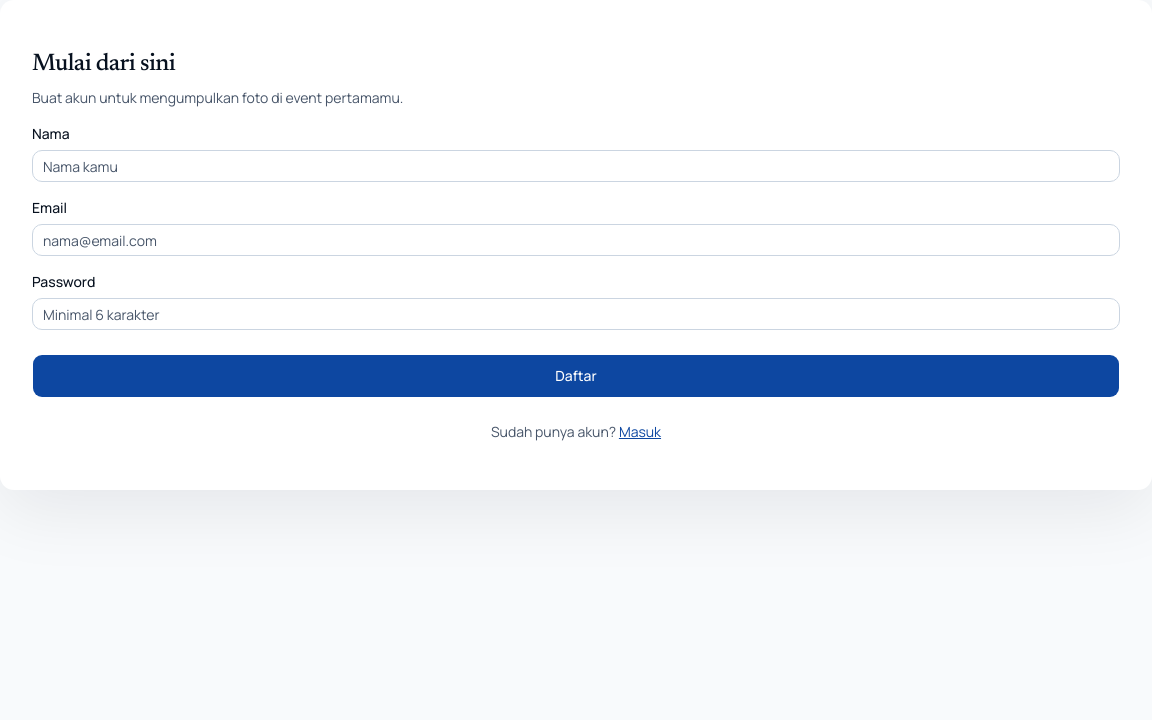
Test: RegisterForm › shows an error message when registration fails
Type "Sari" into the field labelled "Nama" at (576, 166), box [32,150,1120,182]
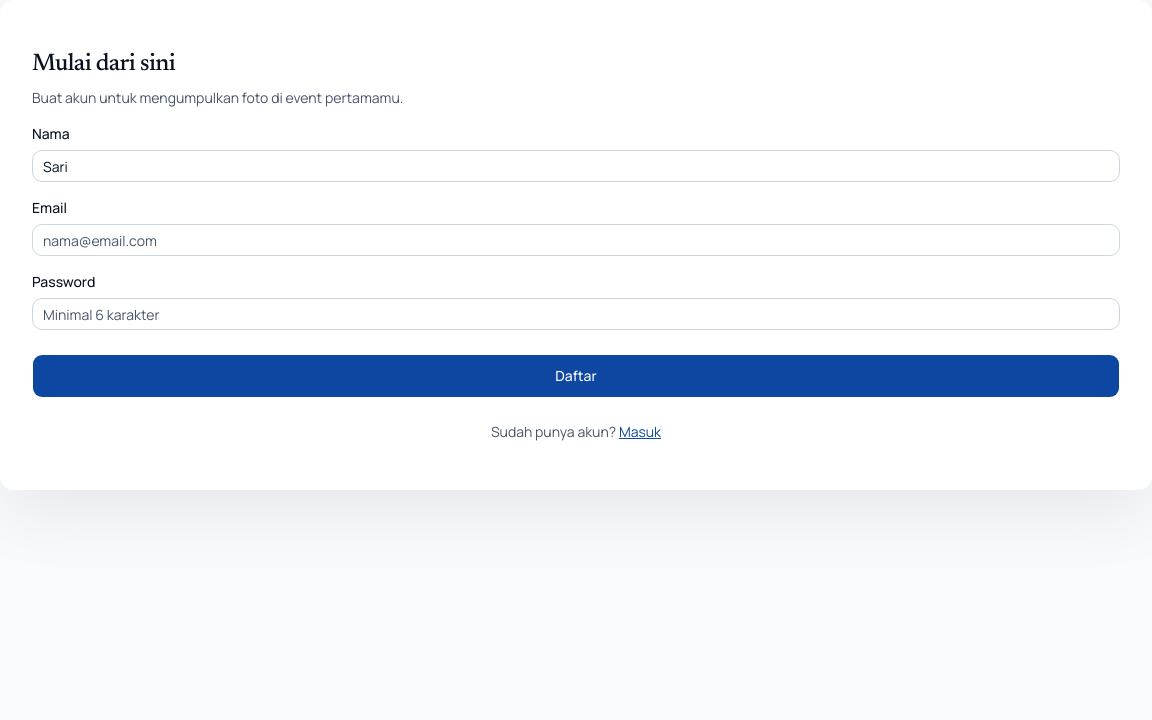
Type "sari@example.com" into the field labelled "Email" at (576, 240), box [32,224,1120,256]
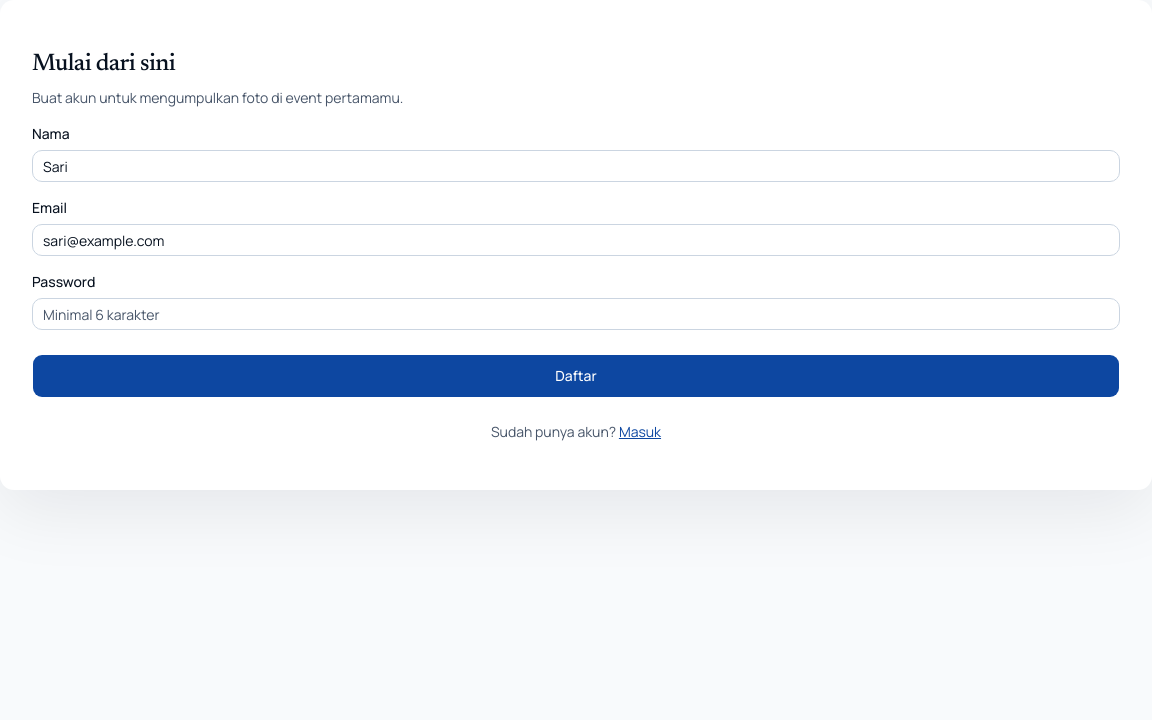
Type "secret123" into the password field labelled "Password" at (576, 314), box [32,298,1120,330]
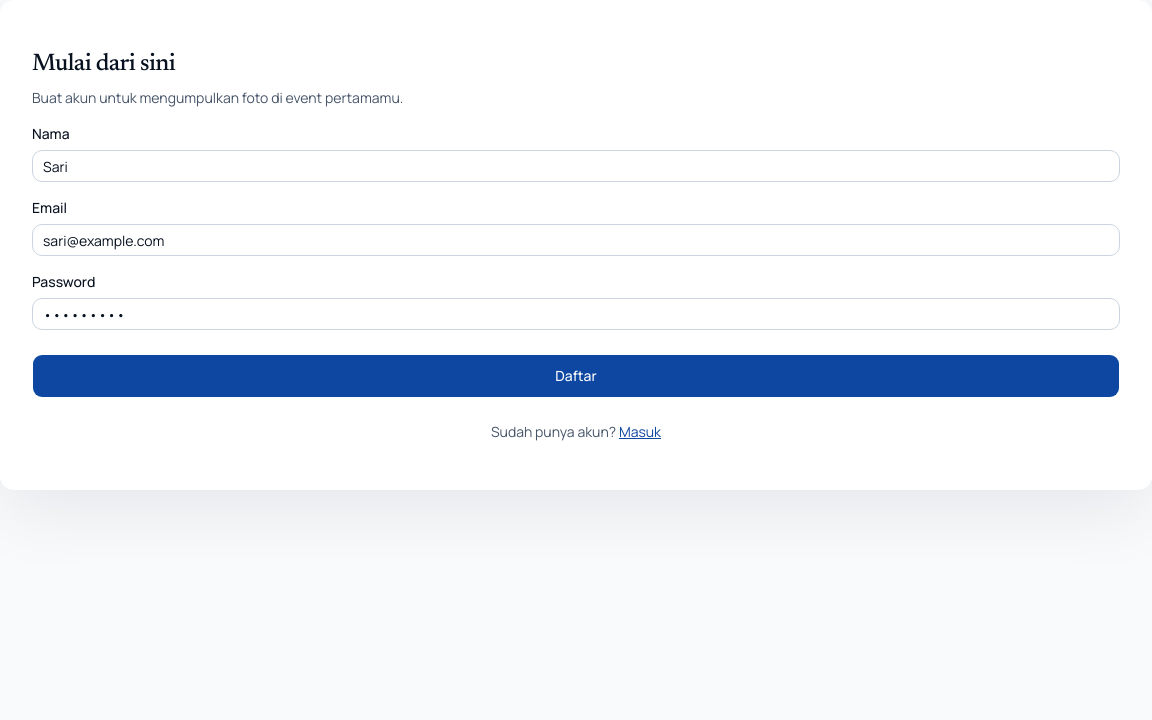
Click the button "Daftar" at (576, 376), box [32,354,1120,398]
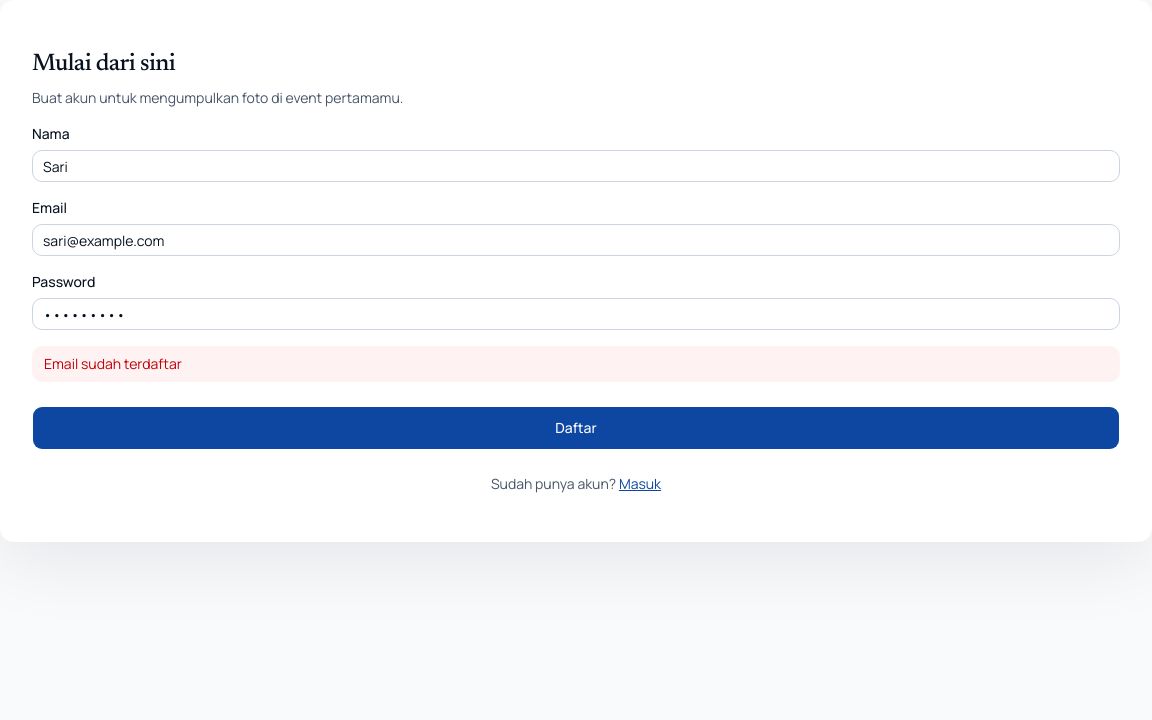
Expected: the text "Email sudah terdaftar" is shown, [32,346,1120,382]
